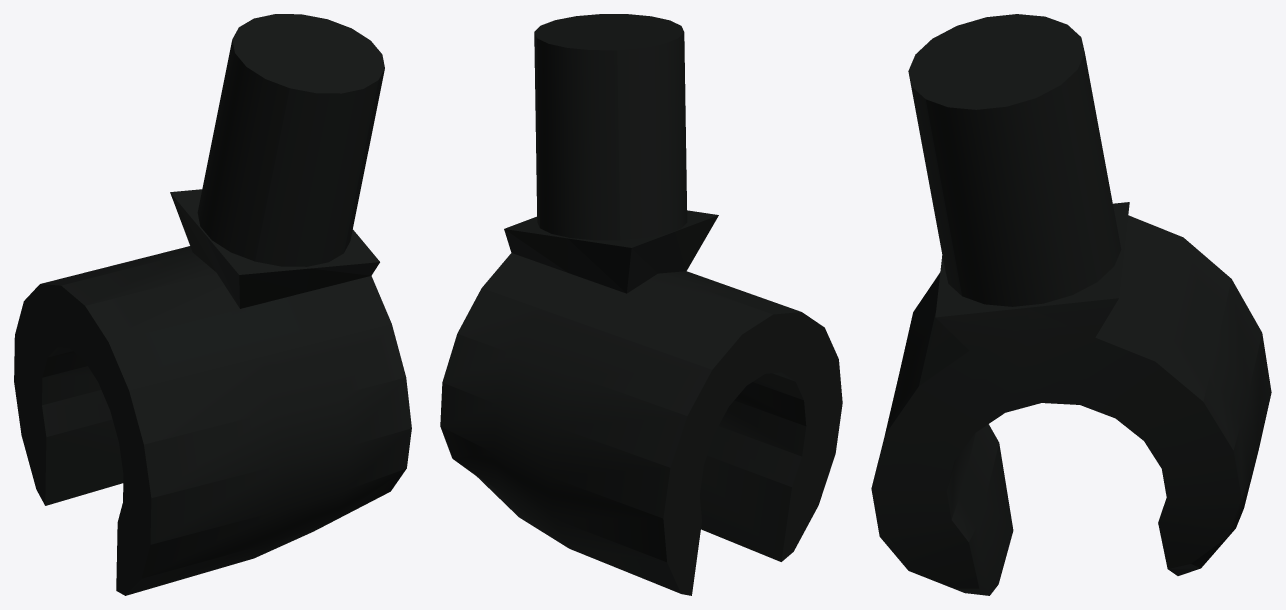
File: mano.obj
3 renders of one model, left to right at view 1: azimuth 30°, elevation 25°; view 2: azimuth 150°, elevation 25°; view 3: azimuth 270°, elevation 25°, orthographic. The views are drawn at different scales.
Parts seen in each view (by area): view 1: hand_dx; view 2: hand_dx; view 3: hand_dx.
Boxes of the visible parts, box(x1,y1,x2,y2) form: hand_dx: box(14, 14, 411, 595); hand_dx: box(440, 14, 842, 595); hand_dx: box(871, 14, 1271, 595).
Bounding box in the file's own units: 12.26 × 22.09 × 13.63.
Materials: 1 (1 with a texture image).
